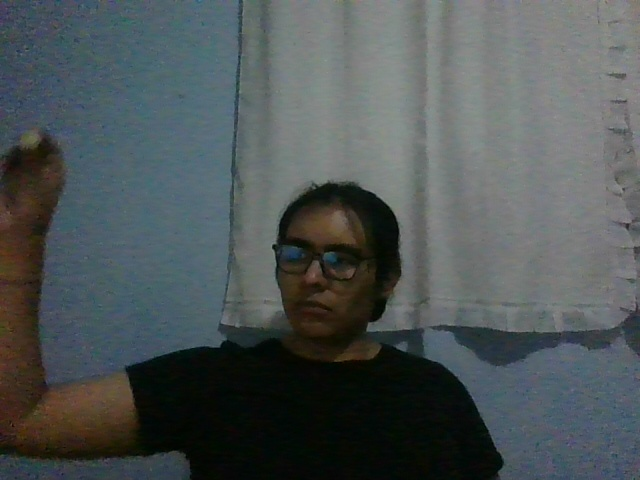goma: (17, 131, 41, 150)
